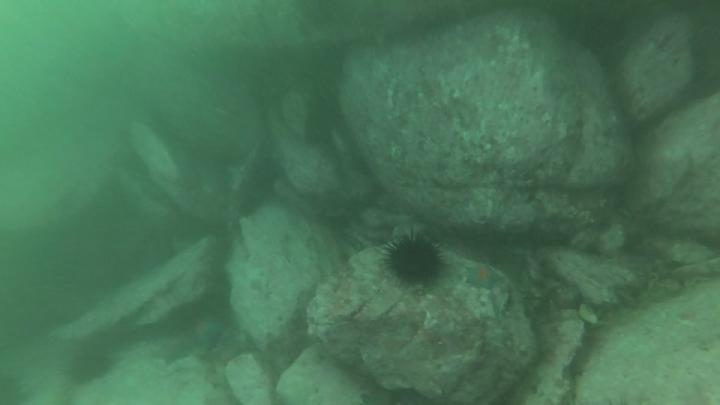echinus: (378, 227, 451, 293), (233, 152, 284, 222), (65, 340, 118, 392)
starfish: (150, 337, 202, 368), (463, 259, 506, 295)
